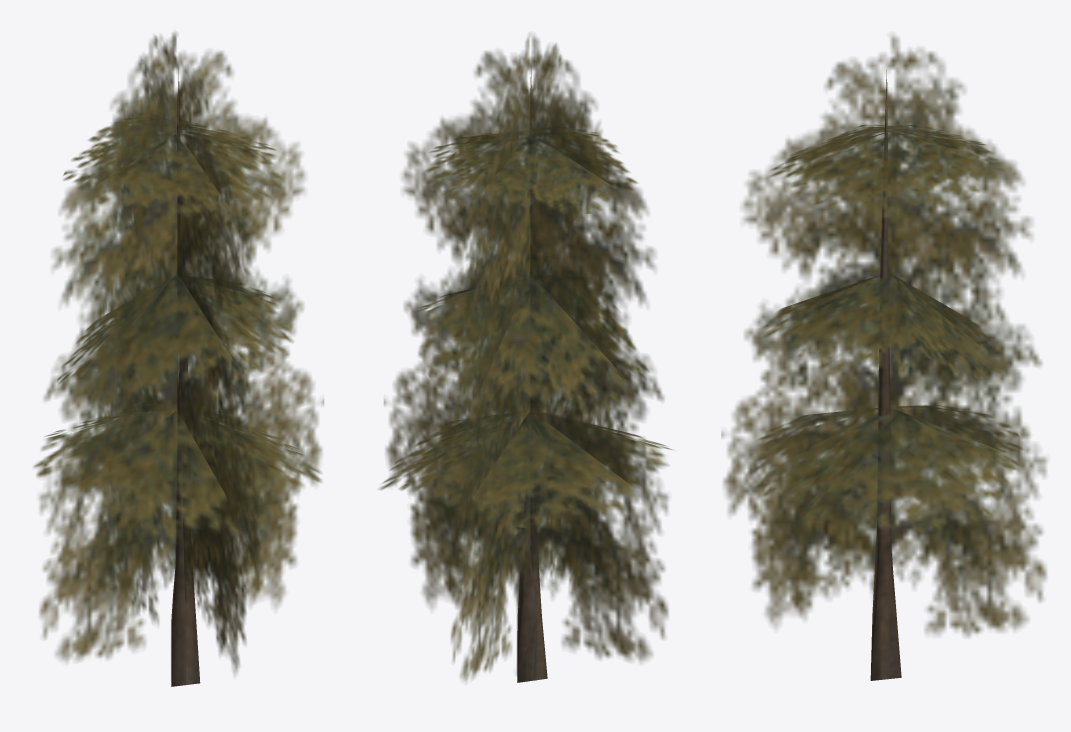
The model's file is forest_tree_4.glb.
3 views of the same model, side by side, from view 1: azimuth 30°, elevation 25°; view 2: azimuth 150°, elevation 25°; view 3: azimuth 270°, elevation 25° (orthographic).
Visible parts, largest first — view 1: Background_Tree_Atlas.004_Background_Tree_Atlas_0; view 2: Background_Tree_Atlas.004_Background_Tree_Atlas_0; view 3: Background_Tree_Atlas.004_Background_Tree_Atlas_0.
Part boxes in pixels (x1,y1,x2,y2): Background_Tree_Atlas.004_Background_Tree_Atlas_0: (33,32,323,686); Background_Tree_Atlas.004_Background_Tree_Atlas_0: (379,34,672,682); Background_Tree_Atlas.004_Background_Tree_Atlas_0: (721,35,1047,680).
Size of the model in its own units: 5.7 by 12.27 by 5.7.
Materials: 1 (1 with a texture image).
